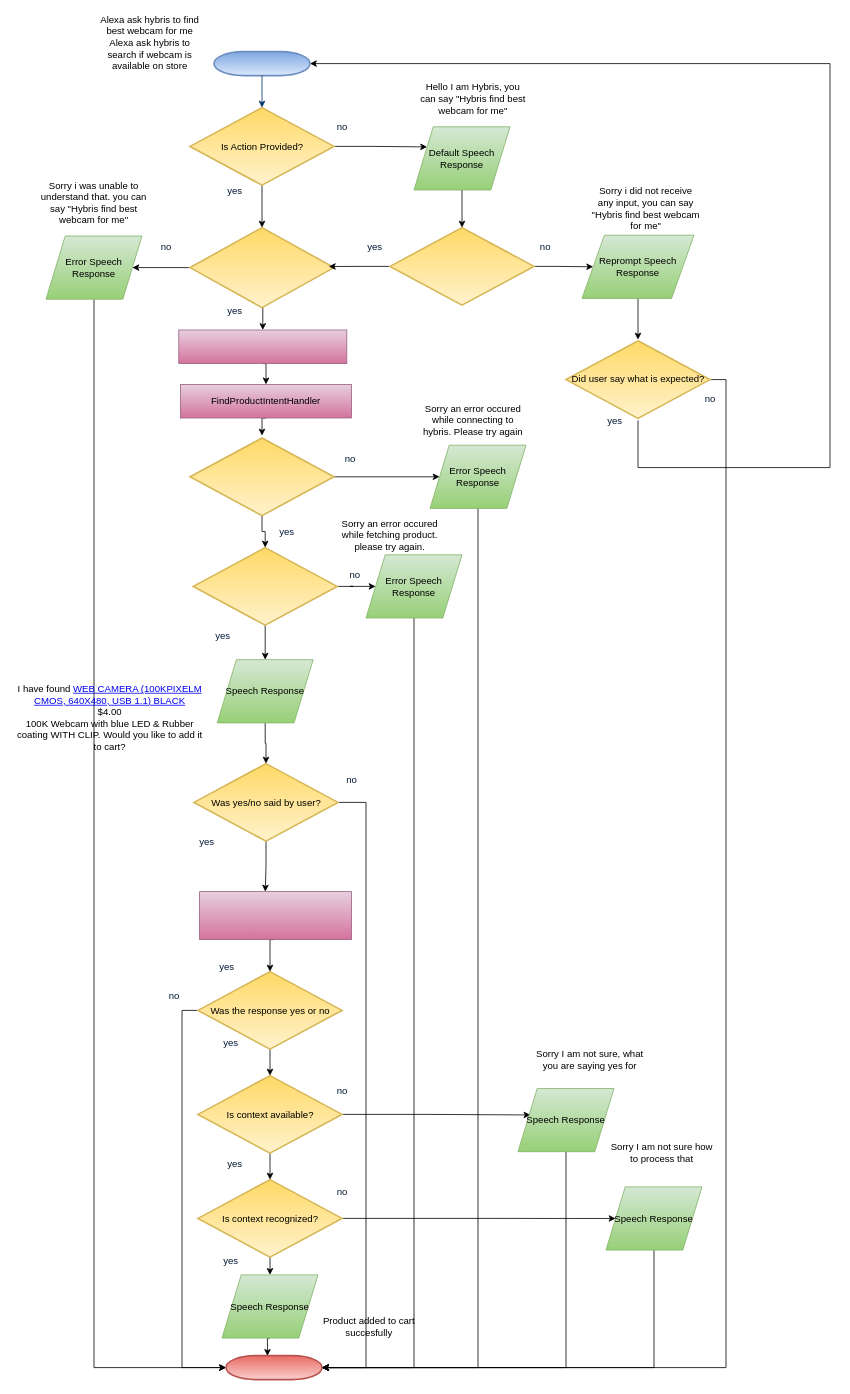
Image size: 850x1394. Some labels were removed from this diagram. Here are the shapes that lost their labels. From the top down, the centre of each, then its label:
(x=261, y=63): Skill Initialization
(x=261, y=267): Is Action Handled?
(x=461, y=266): Is Response Provided?
(x=262, y=346): Send Data to Lambda Function
(x=261, y=476): Was Lambda Function able to interact with Hybris?
(x=265, y=586): Did Hybris provide valid response?
(x=275, y=915): Yes/No Response
(x=273, y=1367): end
